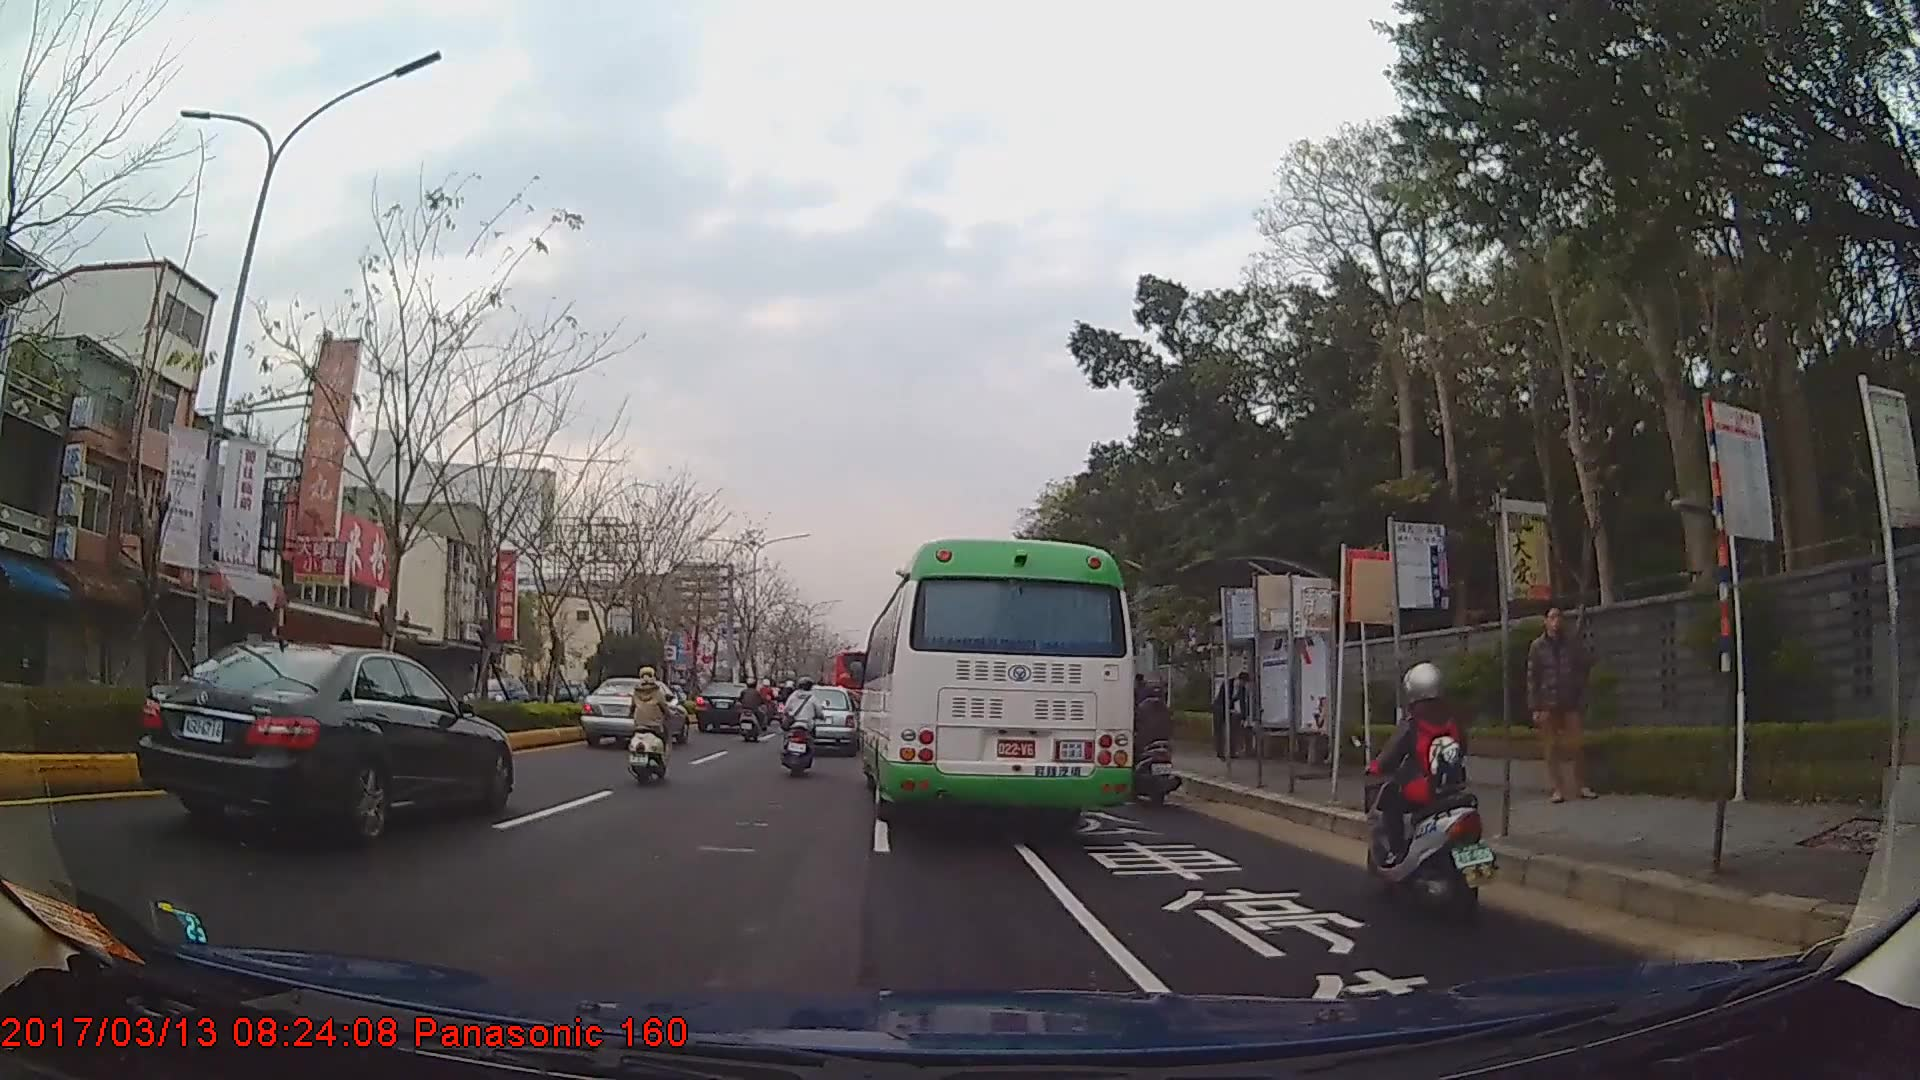pedestrian: (1522, 603, 1597, 806), (1207, 670, 1254, 761)
rider: (1359, 659, 1497, 920), (1128, 679, 1187, 807), (626, 665, 675, 782), (783, 682, 828, 777), (738, 677, 768, 743), (181, 648, 205, 688), (780, 680, 802, 721)
vehicle: (131, 638, 512, 849), (857, 538, 1133, 830), (581, 675, 690, 746), (788, 685, 860, 757), (454, 669, 530, 719), (695, 680, 763, 735)
